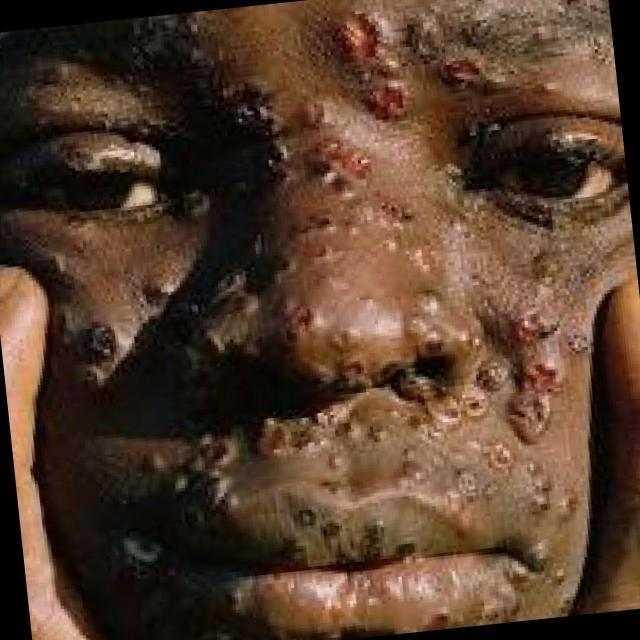Eczema: (31, 16, 586, 634)
